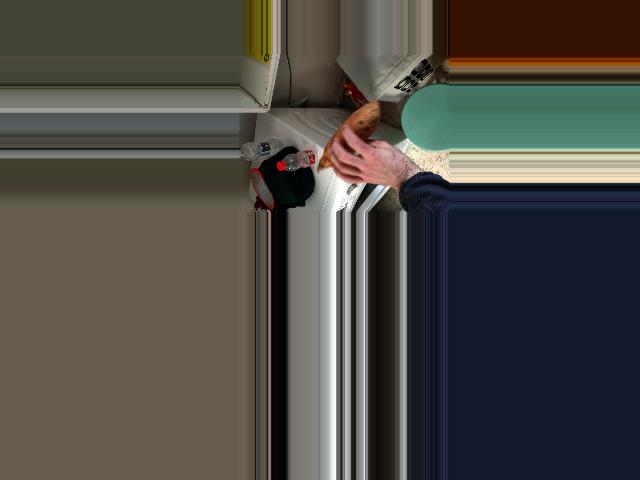sweet_potato: (319, 105, 379, 176)
